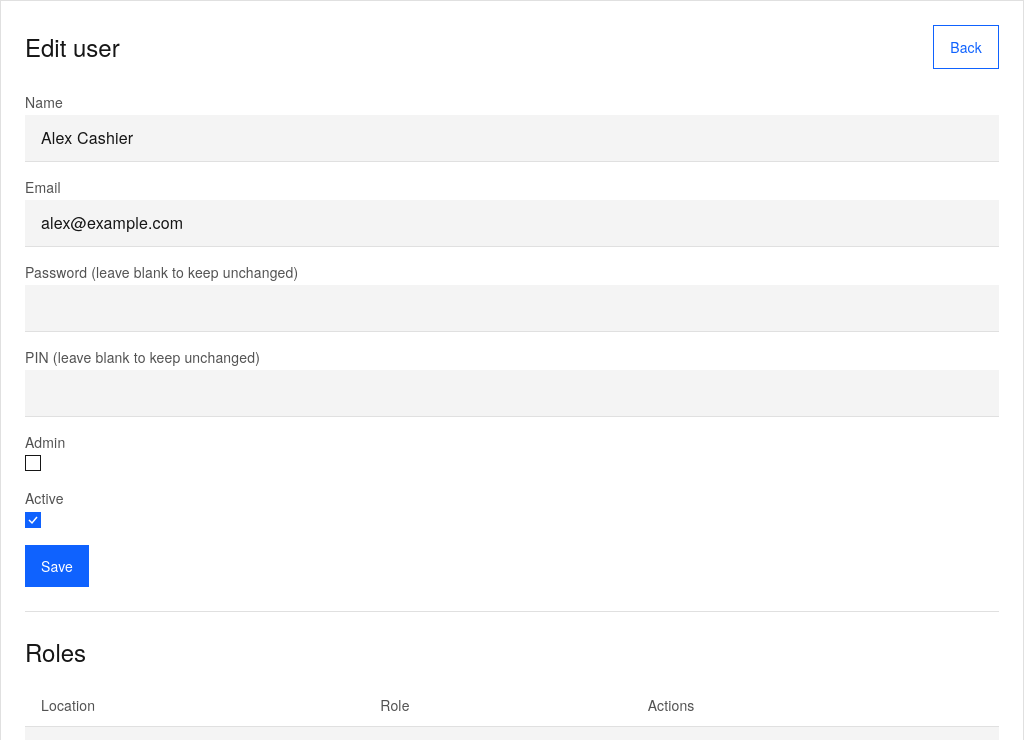
Test: UserEditor › cancelling the deactivate ConfirmDialog blocks the save
Click the checkbox named "active" below "Active": coordinates (33, 520) [25,512,41,528]
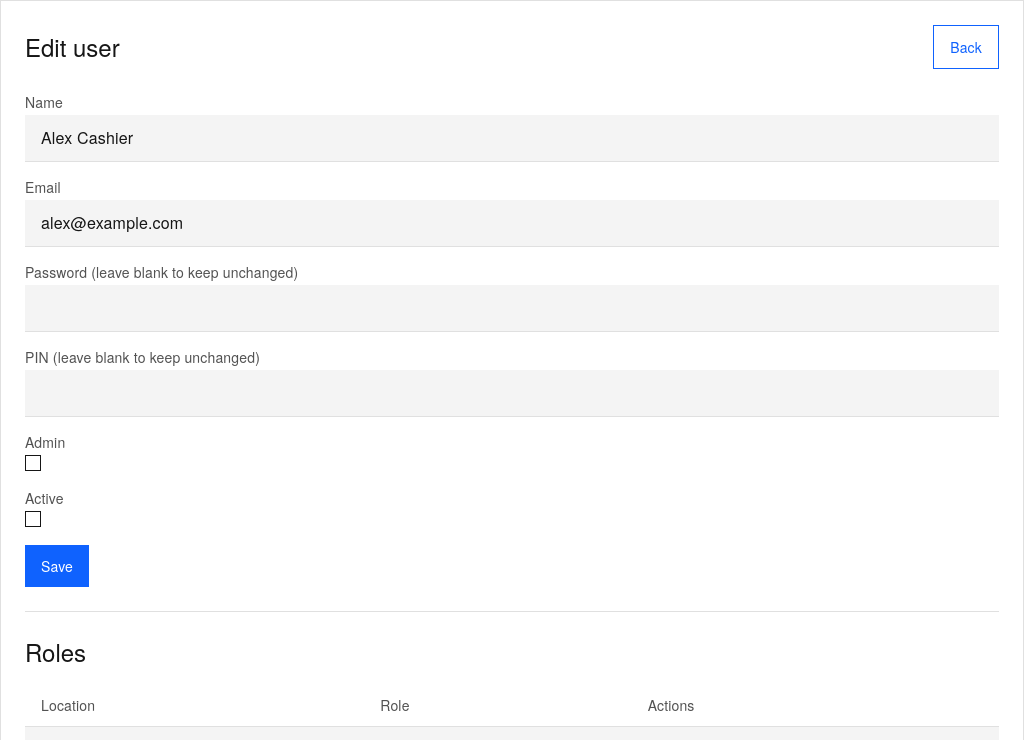
Click the button "Save": coordinates (57, 566) [25,545,89,587]
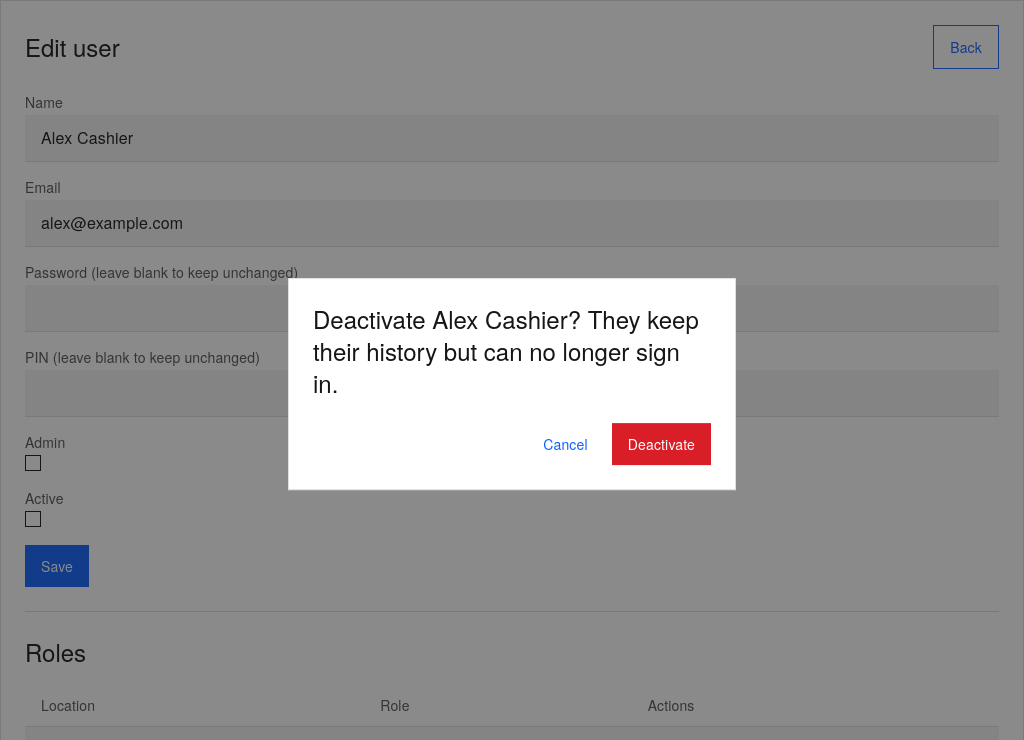
Expected: the heading "Deactivate Alex Cashier? They keep their history but can no longer sign in." is shown, [313,303,711,399]
Click the button "Cancel": coordinates (565, 444) [527,423,604,465]
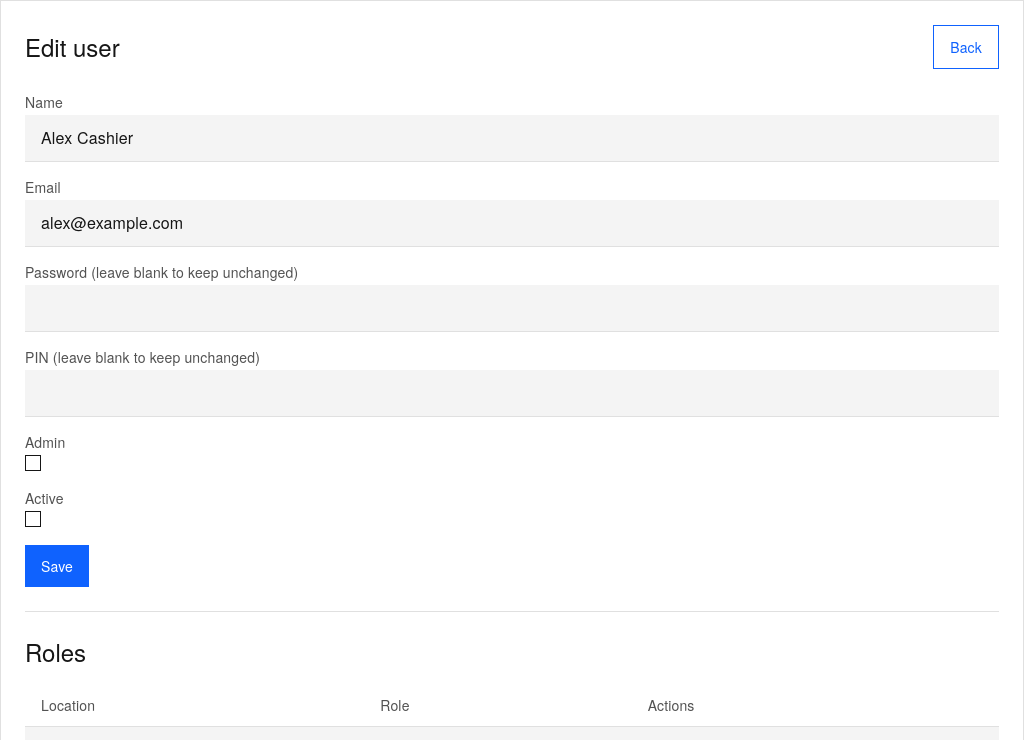
Expected: the dialog is gone
